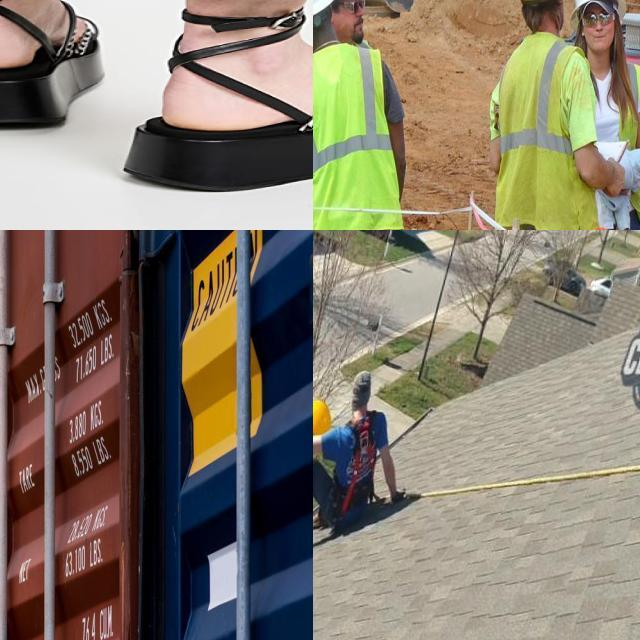Harness: (341, 412, 377, 516)
Sandals: (126, 0, 313, 192), (0, 0, 107, 128)
face_nomask: (577, 5, 623, 52), (340, 0, 374, 48)
glasses: (579, 11, 618, 30), (344, 0, 368, 16)
hand_noglove: (603, 152, 628, 198)
person: (487, 0, 640, 230), (313, 0, 435, 230), (556, 0, 640, 230)
vest: (491, 43, 614, 230), (313, 40, 422, 227)
